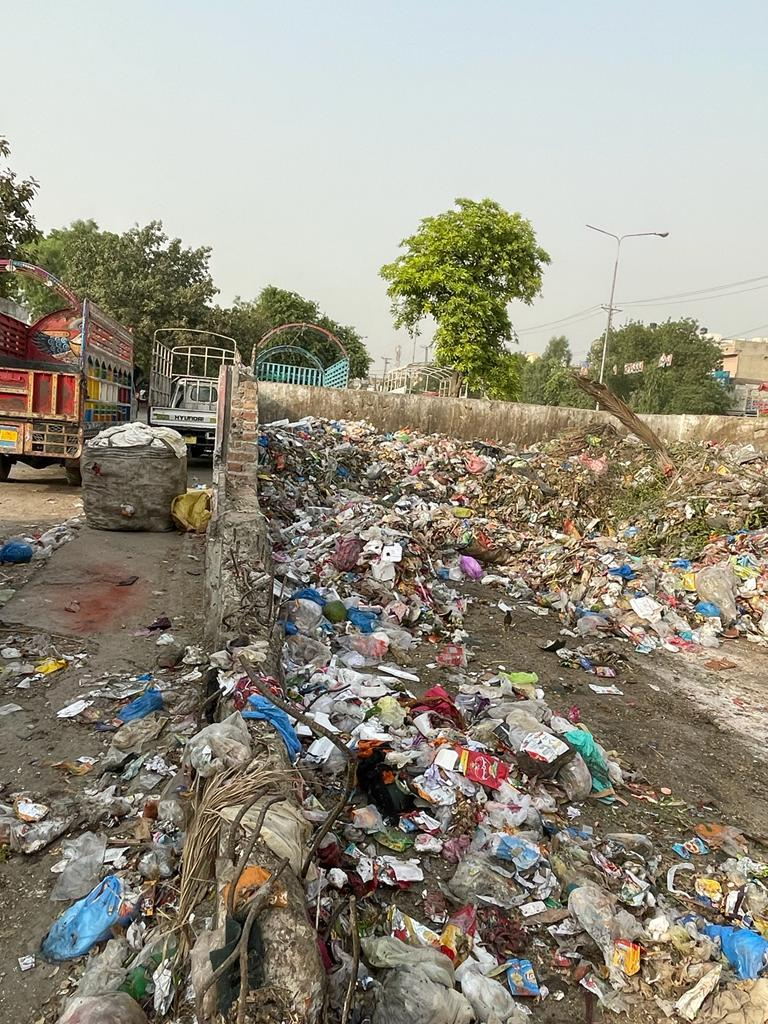garbage: (46, 405, 768, 1024)
